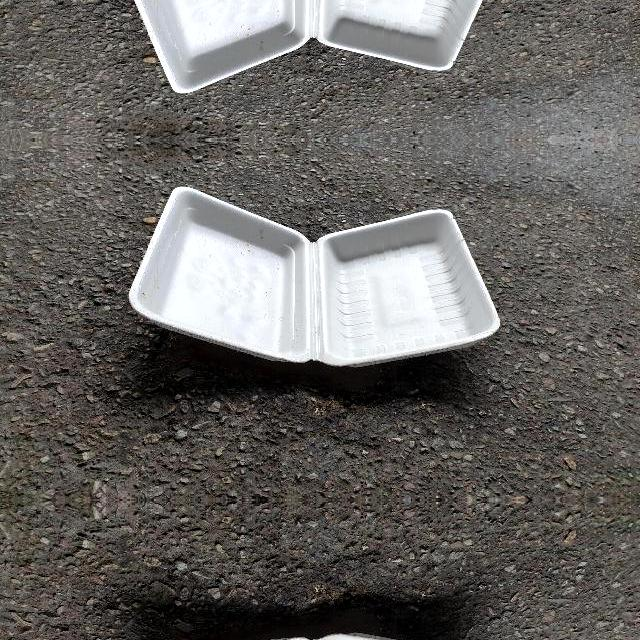Styrofoam: (128, 186, 502, 370), (129, 186, 501, 366), (127, 0, 502, 93), (133, 0, 484, 94)
